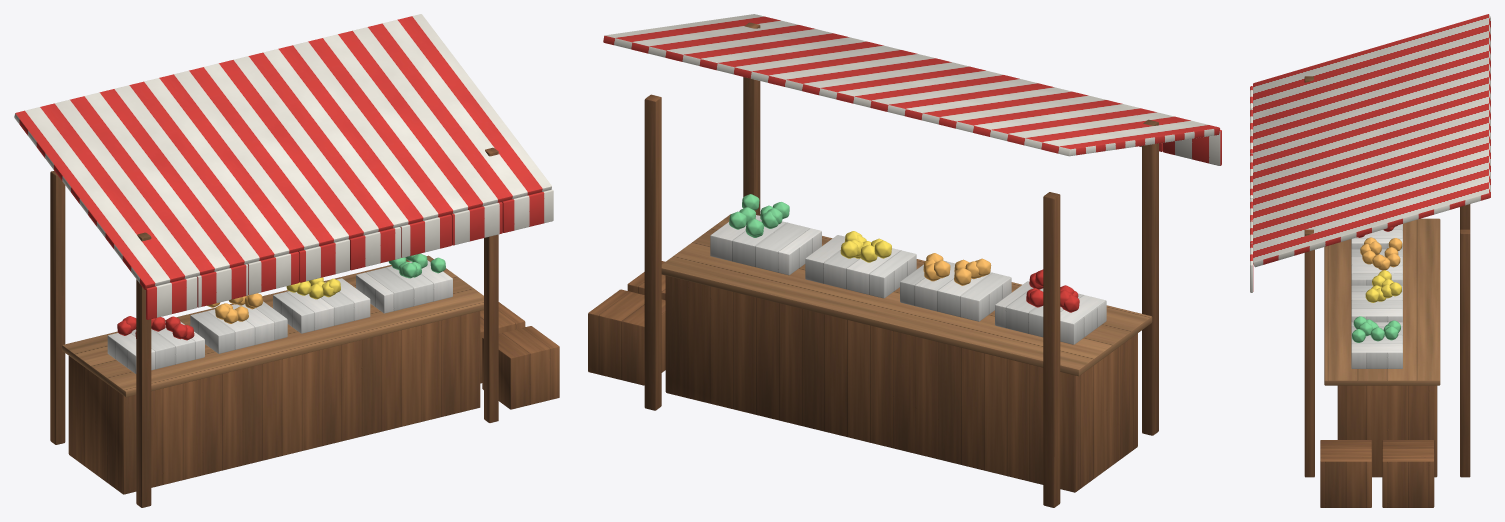
File: market_stall.glb
The picture shows the model from 3 angles, left to right: view 1: azimuth 30°, elevation 25°; view 2: azimuth 150°, elevation 25°; view 3: azimuth 270°, elevation 25°; orthographic projection. The views are drawn at different scales.
Parts seen in each view (by area): view 1: market_stall; view 2: market_stall; view 3: market_stall.
Boxes of the visible parts, <box> form: market_stall: <box>14,14,559,507</box>; market_stall: <box>588,14,1221,507</box>; market_stall: <box>1250,14,1490,507</box>.
Bounding box in the file's own units: 4.55 × 3.15 × 2.32.
8 materials, 5 textured.
